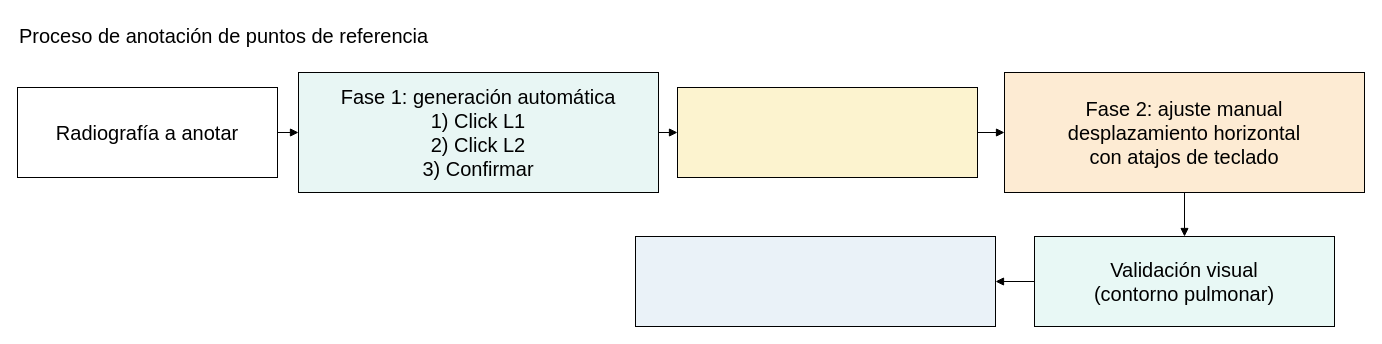
The diagram is 1382 pixels wide and 344 high, and some of its shapes have lost their labels. The shapes that lost their labels are listed below. From the top down, each one's centre as x and y in pixels, then its label:
At point 827,132: "Genera L3-L15 (perpendiculares al eje)".
At point 815,281: "Guardar coordenadas en CSV".
